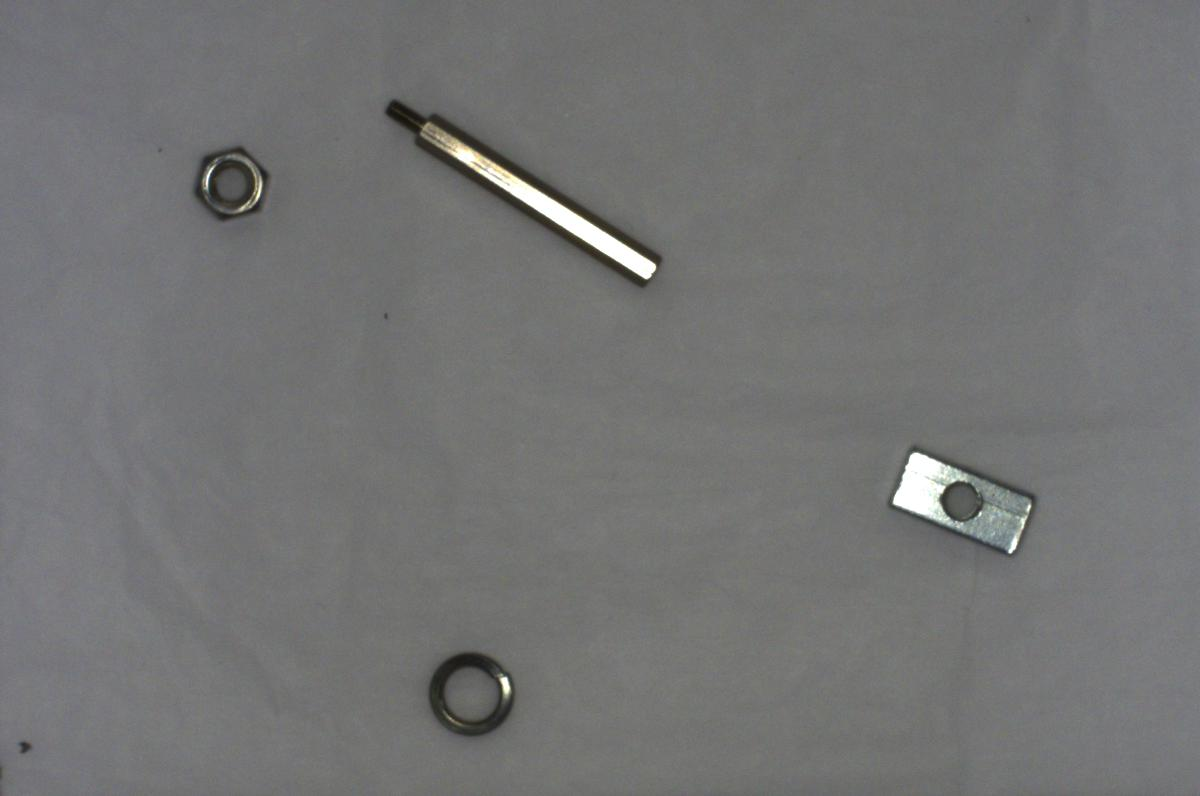Hexagon nut: (187, 138, 277, 227)
Hexagonal steel column: (378, 95, 665, 293)
Rectangular nut: (885, 440, 1044, 565)
Spring washer: (417, 643, 521, 742)
